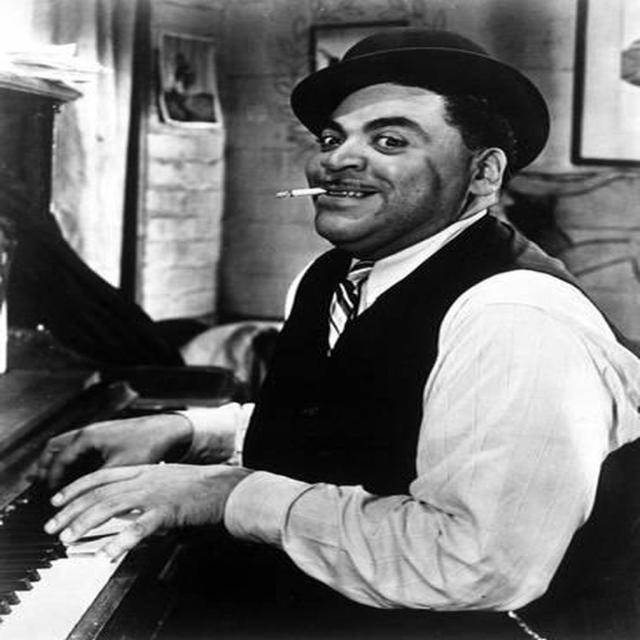smoking: (266, 49, 566, 256)
